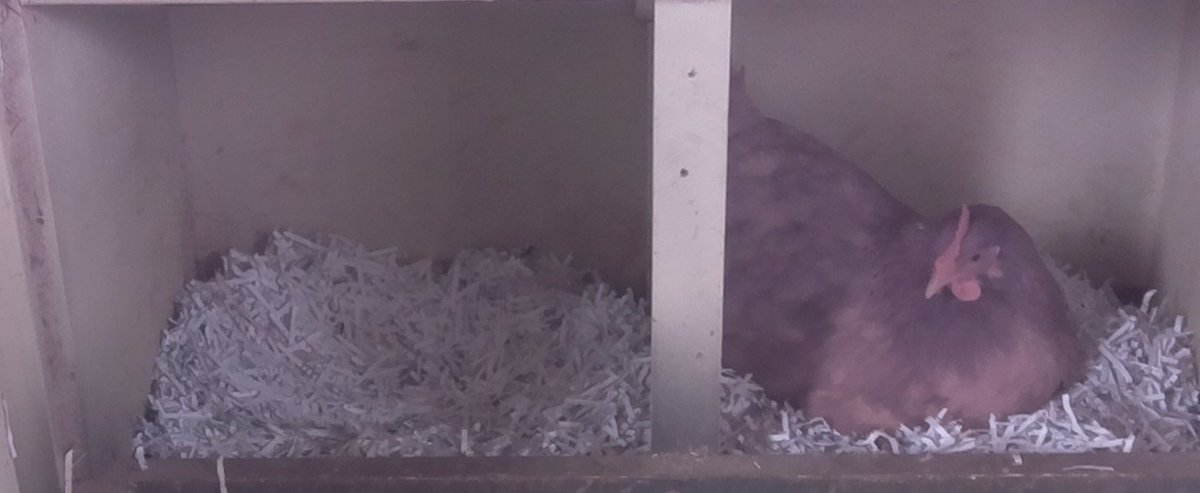hen: (730, 68, 1095, 439)
